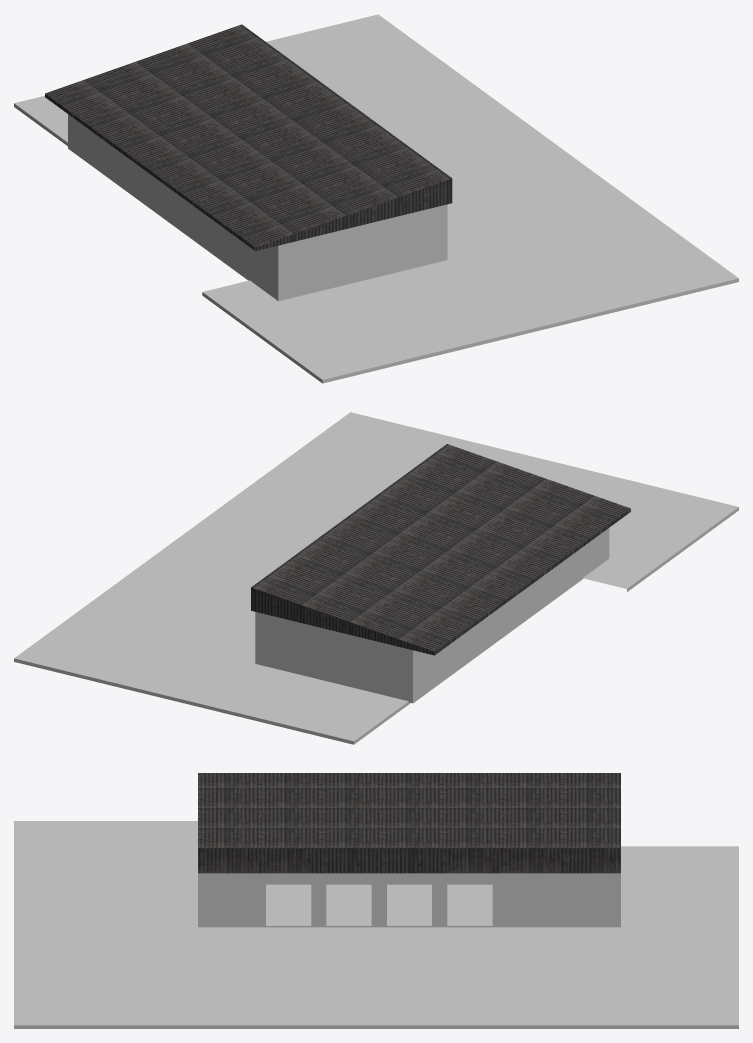
The model's file is garagee.fbx.
3 renders of one model, top to bottom at view 1: azimuth 30°, elevation 25°; view 2: azimuth 150°, elevation 25°; view 3: azimuth 270°, elevation 25°, orthographic. The views are drawn at different scales.
Visible parts, largest first — view 1: Plane.002, Plane.017, Plane, Plane.013, Plane.015; view 2: Plane.002, Plane.017, Plane.009, Plane.013, Plane.015; view 3: Plane.002, Plane.017, Plane.014, Plane.010, Plane.006, Plane.016, Plane.003, Plane.004, Plane.005, Plane, Plane.007.
Part boxes in pixels (x1=…): Plane.002: x1=14, y1=14, x2=738, y2=383; Plane.017: x1=45, y1=24, x2=452, y2=250; Plane: x1=278, y1=204, x2=447, y2=301; Plane.013: x1=68, y1=114, x2=278, y2=299; Plane.015: x1=68, y1=146, x2=278, y2=300; Plane.002: x1=14, y1=412, x2=738, y2=744; Plane.017: x1=251, y1=444, x2=630, y2=655; Plane.009: x1=255, y1=612, x2=412, y2=703; Plane.013: x1=413, y1=528, x2=609, y2=700; Plane.015: x1=413, y1=558, x2=609, y2=703; Plane.002: x1=14, y1=821, x2=738, y2=1028; Plane.017: x1=198, y1=773, x2=620, y2=873; Plane.014: x1=266, y1=884, x2=492, y2=925; Plane.010: x1=492, y1=873, x2=620, y2=927; Plane.006: x1=198, y1=873, x2=265, y2=925; Plane.016: x1=311, y1=873, x2=492, y2=884; Plane.003: x1=311, y1=884, x2=326, y2=925; Plane.004: x1=371, y1=884, x2=386, y2=925; Plane.005: x1=432, y1=884, x2=447, y2=925; Plane: x1=198, y1=926, x2=492, y2=927; Plane.007: x1=266, y1=873, x2=311, y2=884.
Bounding box in the file's own units: 3200 × 619 × 4800.
